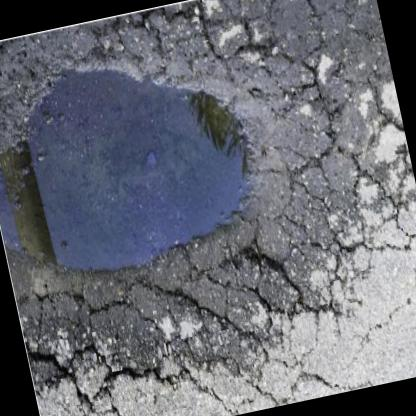pothole: (0, 24, 329, 385)
